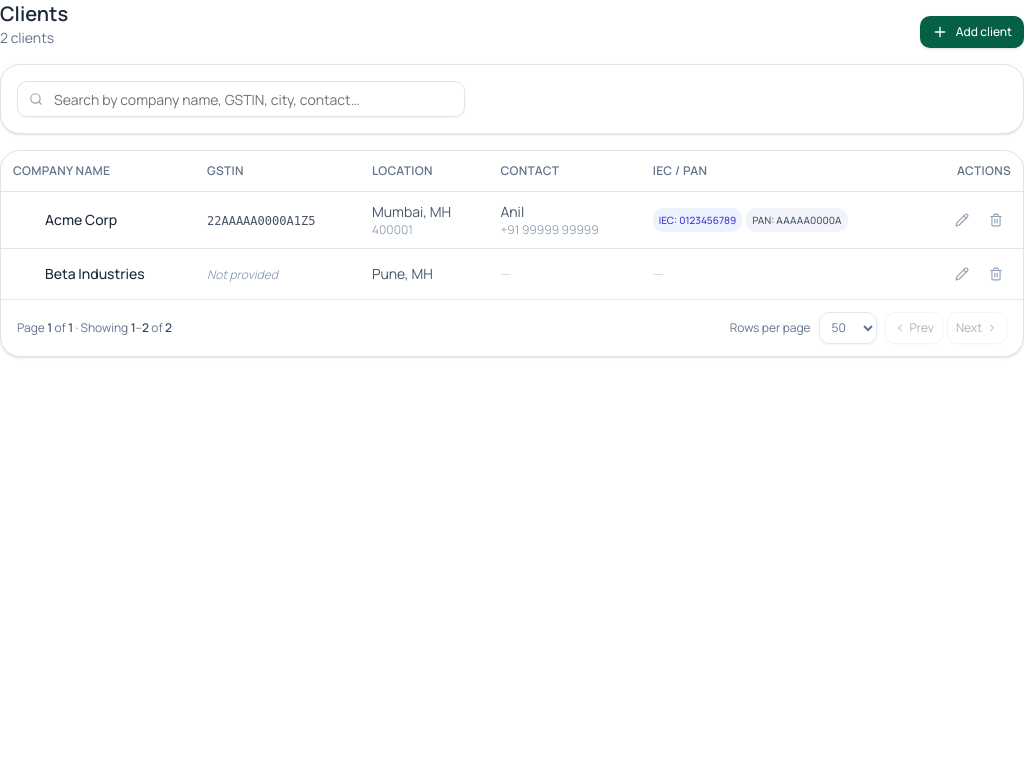
Scenario: ClientsClient — delete flow › opens delete dialog with the company name
The width and height of the screenshot is (1024, 768).
Click the button named "delete acme corp". click: (996, 220)
box: [981,204,1011,234]
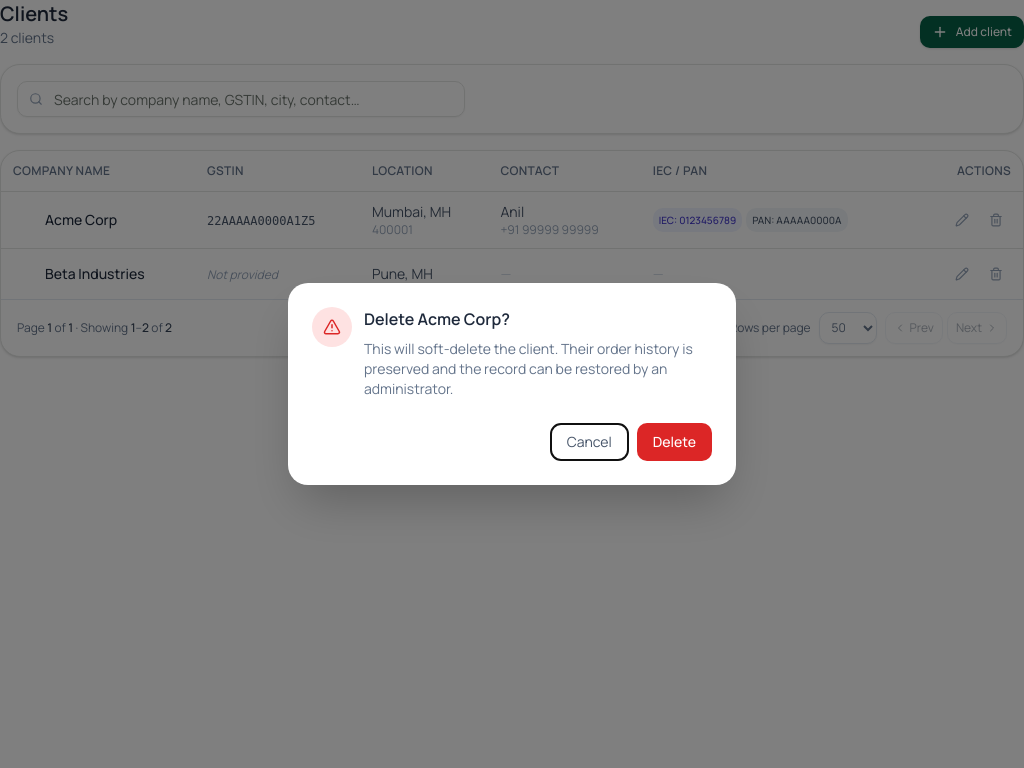
Expected: the heading "Delete Acme Corp?" is shown, [364,308,510,330]
